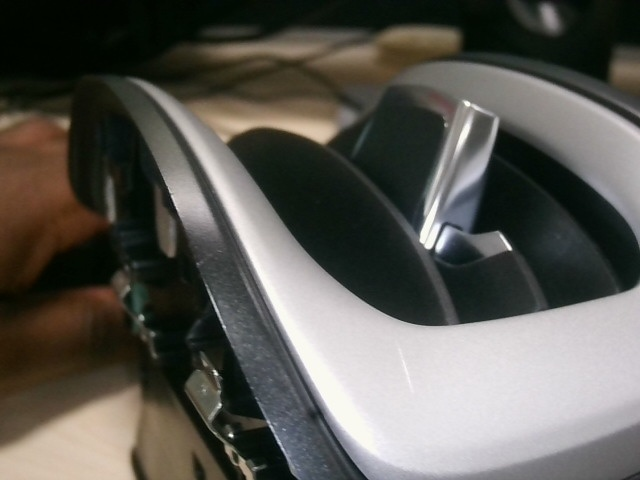NG: (393, 338, 425, 413), (190, 235, 225, 287)
